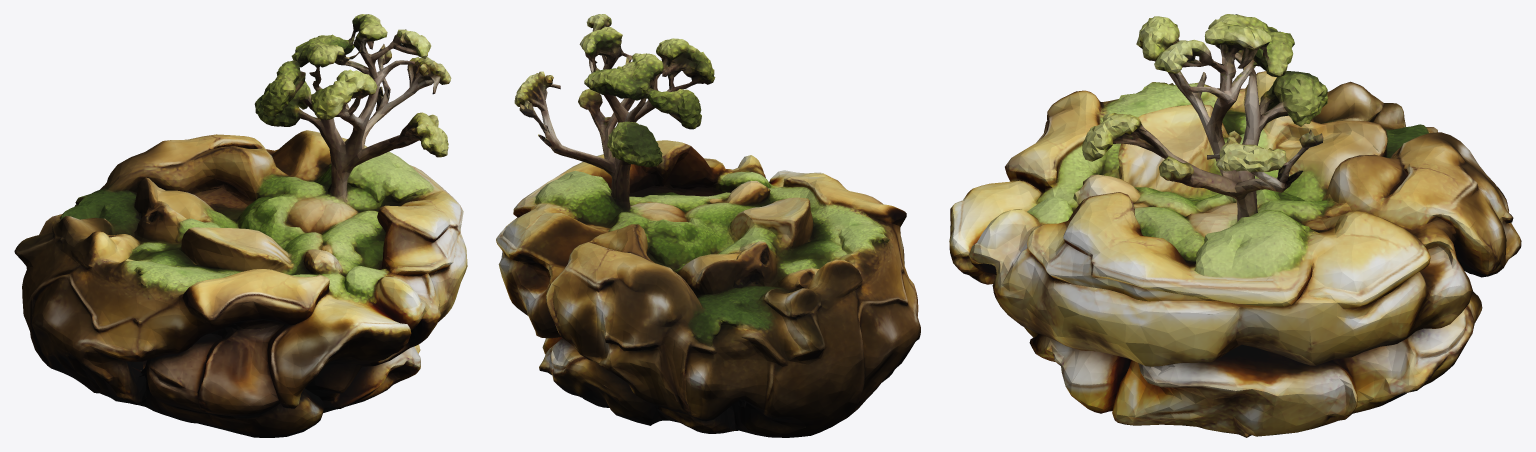
The model's file is ceramic-sculpture-rustic.jpeg.glb.
The picture shows the model from 3 angles, left to right: view 1: azimuth 30°, elevation 25°; view 2: azimuth 150°, elevation 25°; view 3: azimuth 270°, elevation 25°; orthographic projection. The views are drawn at different scales.
Parts seen in each view (by area): view 1: world; view 2: world; view 3: world.
Part boxes in pixels (x1=…): world: x1=14, y1=14, x2=467, y2=437; world: x1=496, y1=14, x2=920, y2=437; world: x1=949, y1=14, x2=1521, y2=437.
Bounding box in the file's own units: 0.9953 × 0.7809 × 0.9991.
1 material, 1 textured.
